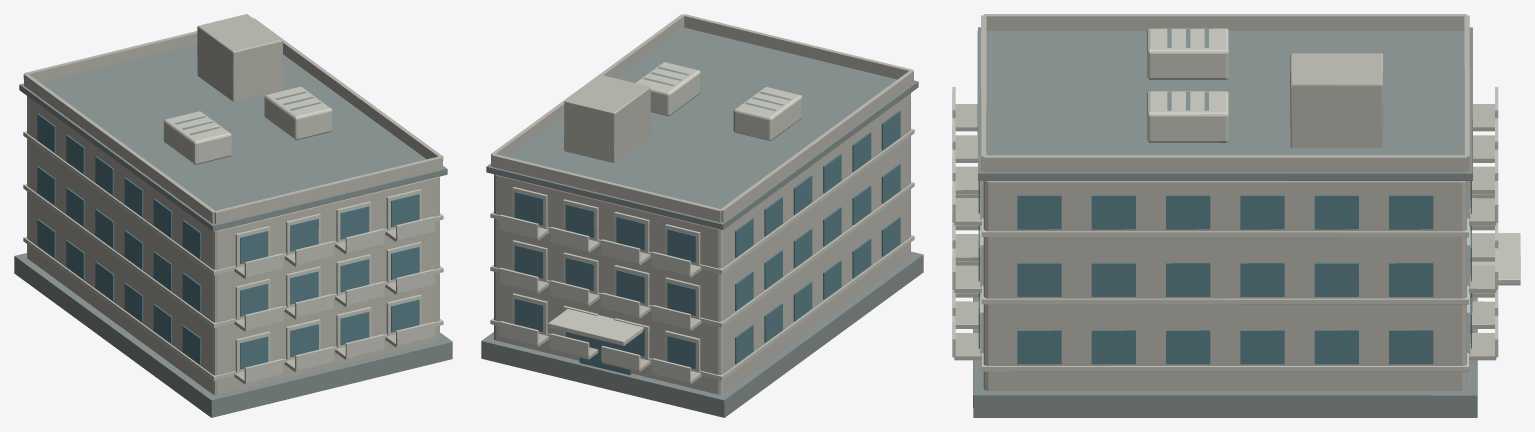
Rendered from building-residential.glb.
3 renders of one model, left to right at view 1: azimuth 30°, elevation 25°; view 2: azimuth 150°, elevation 25°; view 3: azimuth 270°, elevation 25°, orthographic. The views are drawn at different scales.
Parts seen in each view (by area): view 1: core-Warm concrete-surfaces, core-Roof membrane-surfaces, core-Aluminum facade-surfaces, core-Blue architectural glass-surfaces; view 2: core-Warm concrete-surfaces, core-Roof membrane-surfaces, core-Aluminum facade-surfaces, core-Blue architectural glass-surfaces; view 3: core-Warm concrete-surfaces, core-Roof membrane-surfaces, core-Blue architectural glass-surfaces, core-Aluminum facade-surfaces.
Boxes of the visible parts, box(x1,y1,x2,y2) form: core-Warm concrete-surfaces: box(23, 14, 443, 394); core-Roof membrane-surfaces: box(14, 44, 452, 417); core-Aluminum facade-surfaces: box(23, 86, 443, 382); core-Blue architectural glass-surfaces: box(37, 113, 419, 369); core-Warm concrete-surfaces: box(491, 14, 913, 394); core-Roof membrane-surfaces: box(481, 27, 923, 417); core-Aluminum facade-surfaces: box(490, 62, 914, 382); core-Blue architectural glass-surfaces: box(514, 111, 900, 375); core-Warm concrete-surfaces: box(954, 14, 1496, 390); core-Roof membrane-surfaces: box(973, 27, 1477, 417); core-Blue architectural glass-surfaces: box(978, 181, 1472, 364); core-Aluminum facade-surfaces: box(952, 28, 1520, 371).
Bounding box in the file's own units: 9.57 × 9.1 × 15.29.
